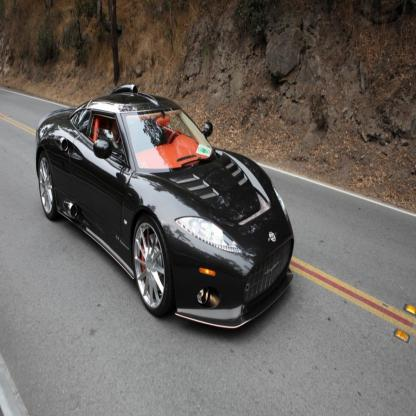Vehicle: (35, 84, 294, 332)
